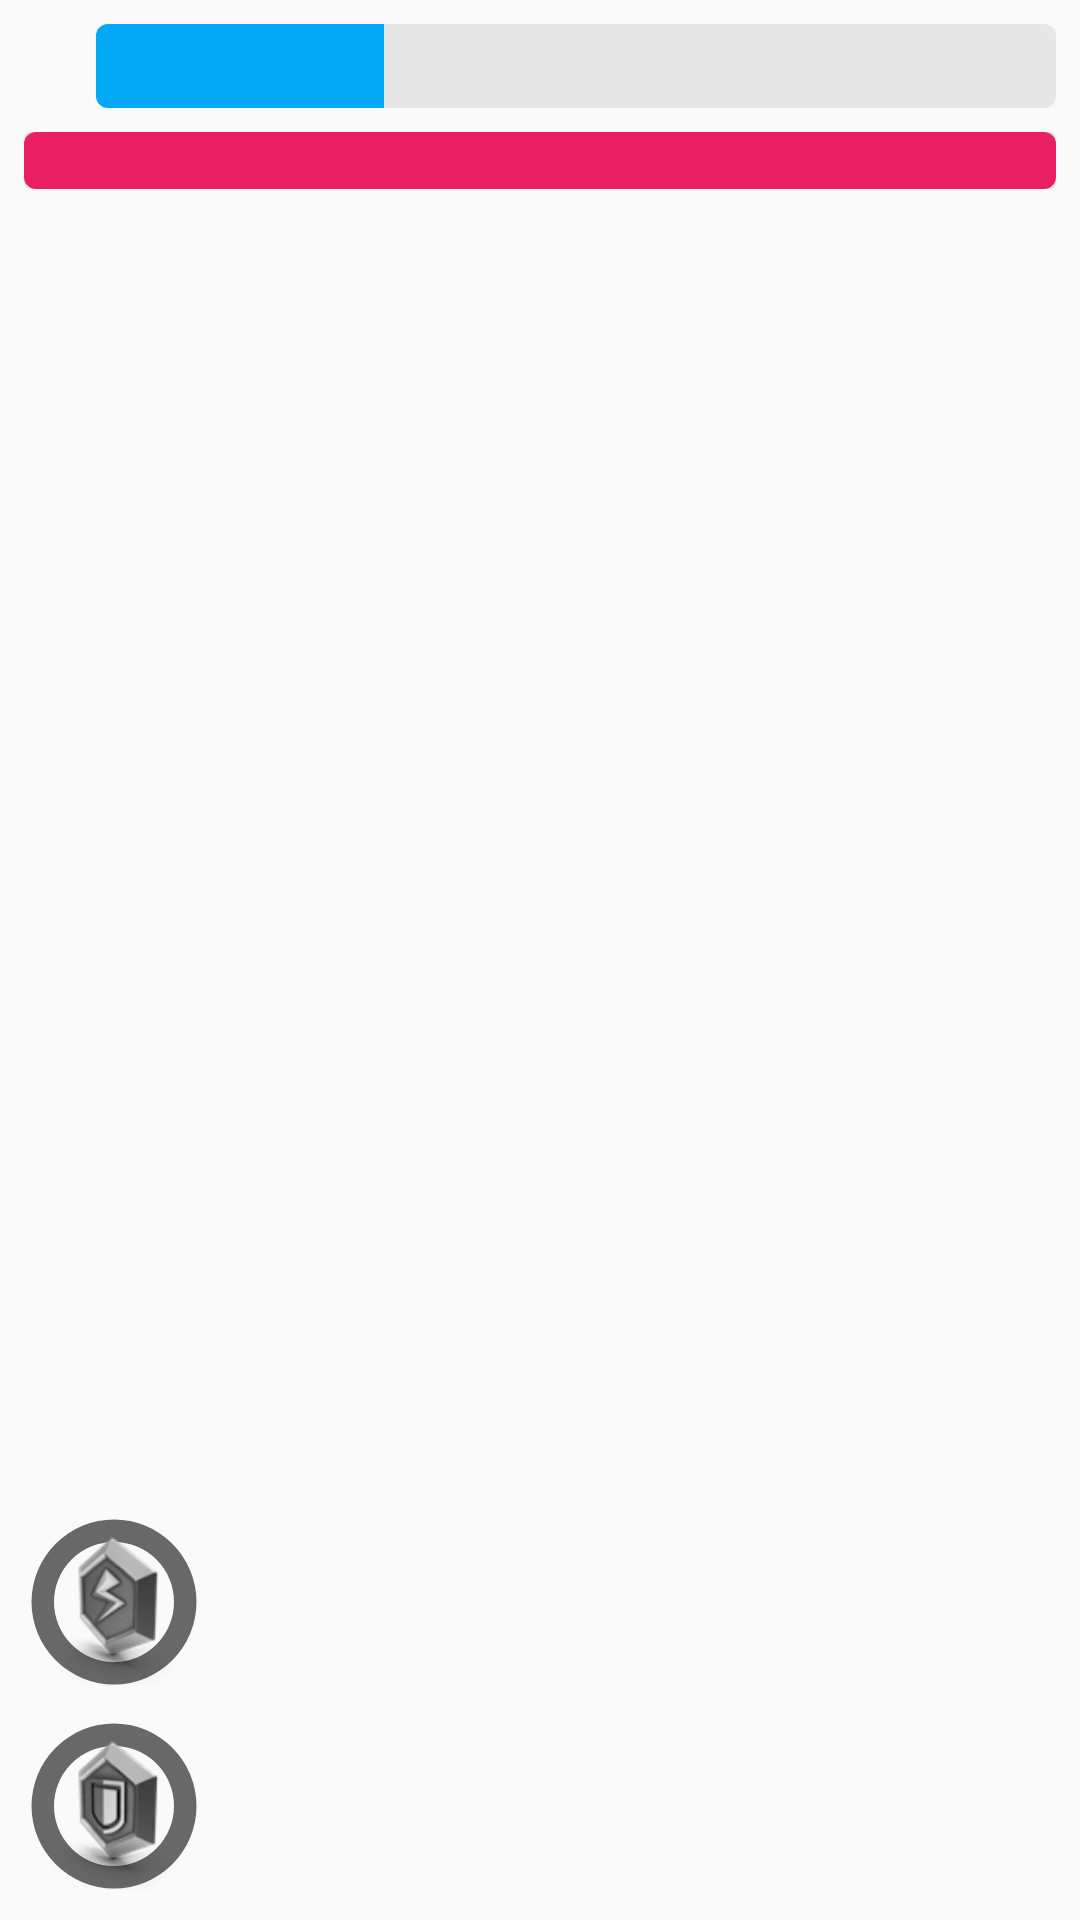

Where to tap for icons on this 1080 × 1920 app screen, as [x,y]:
specialattack: [114,1602]
specialshield: [114,1806]
